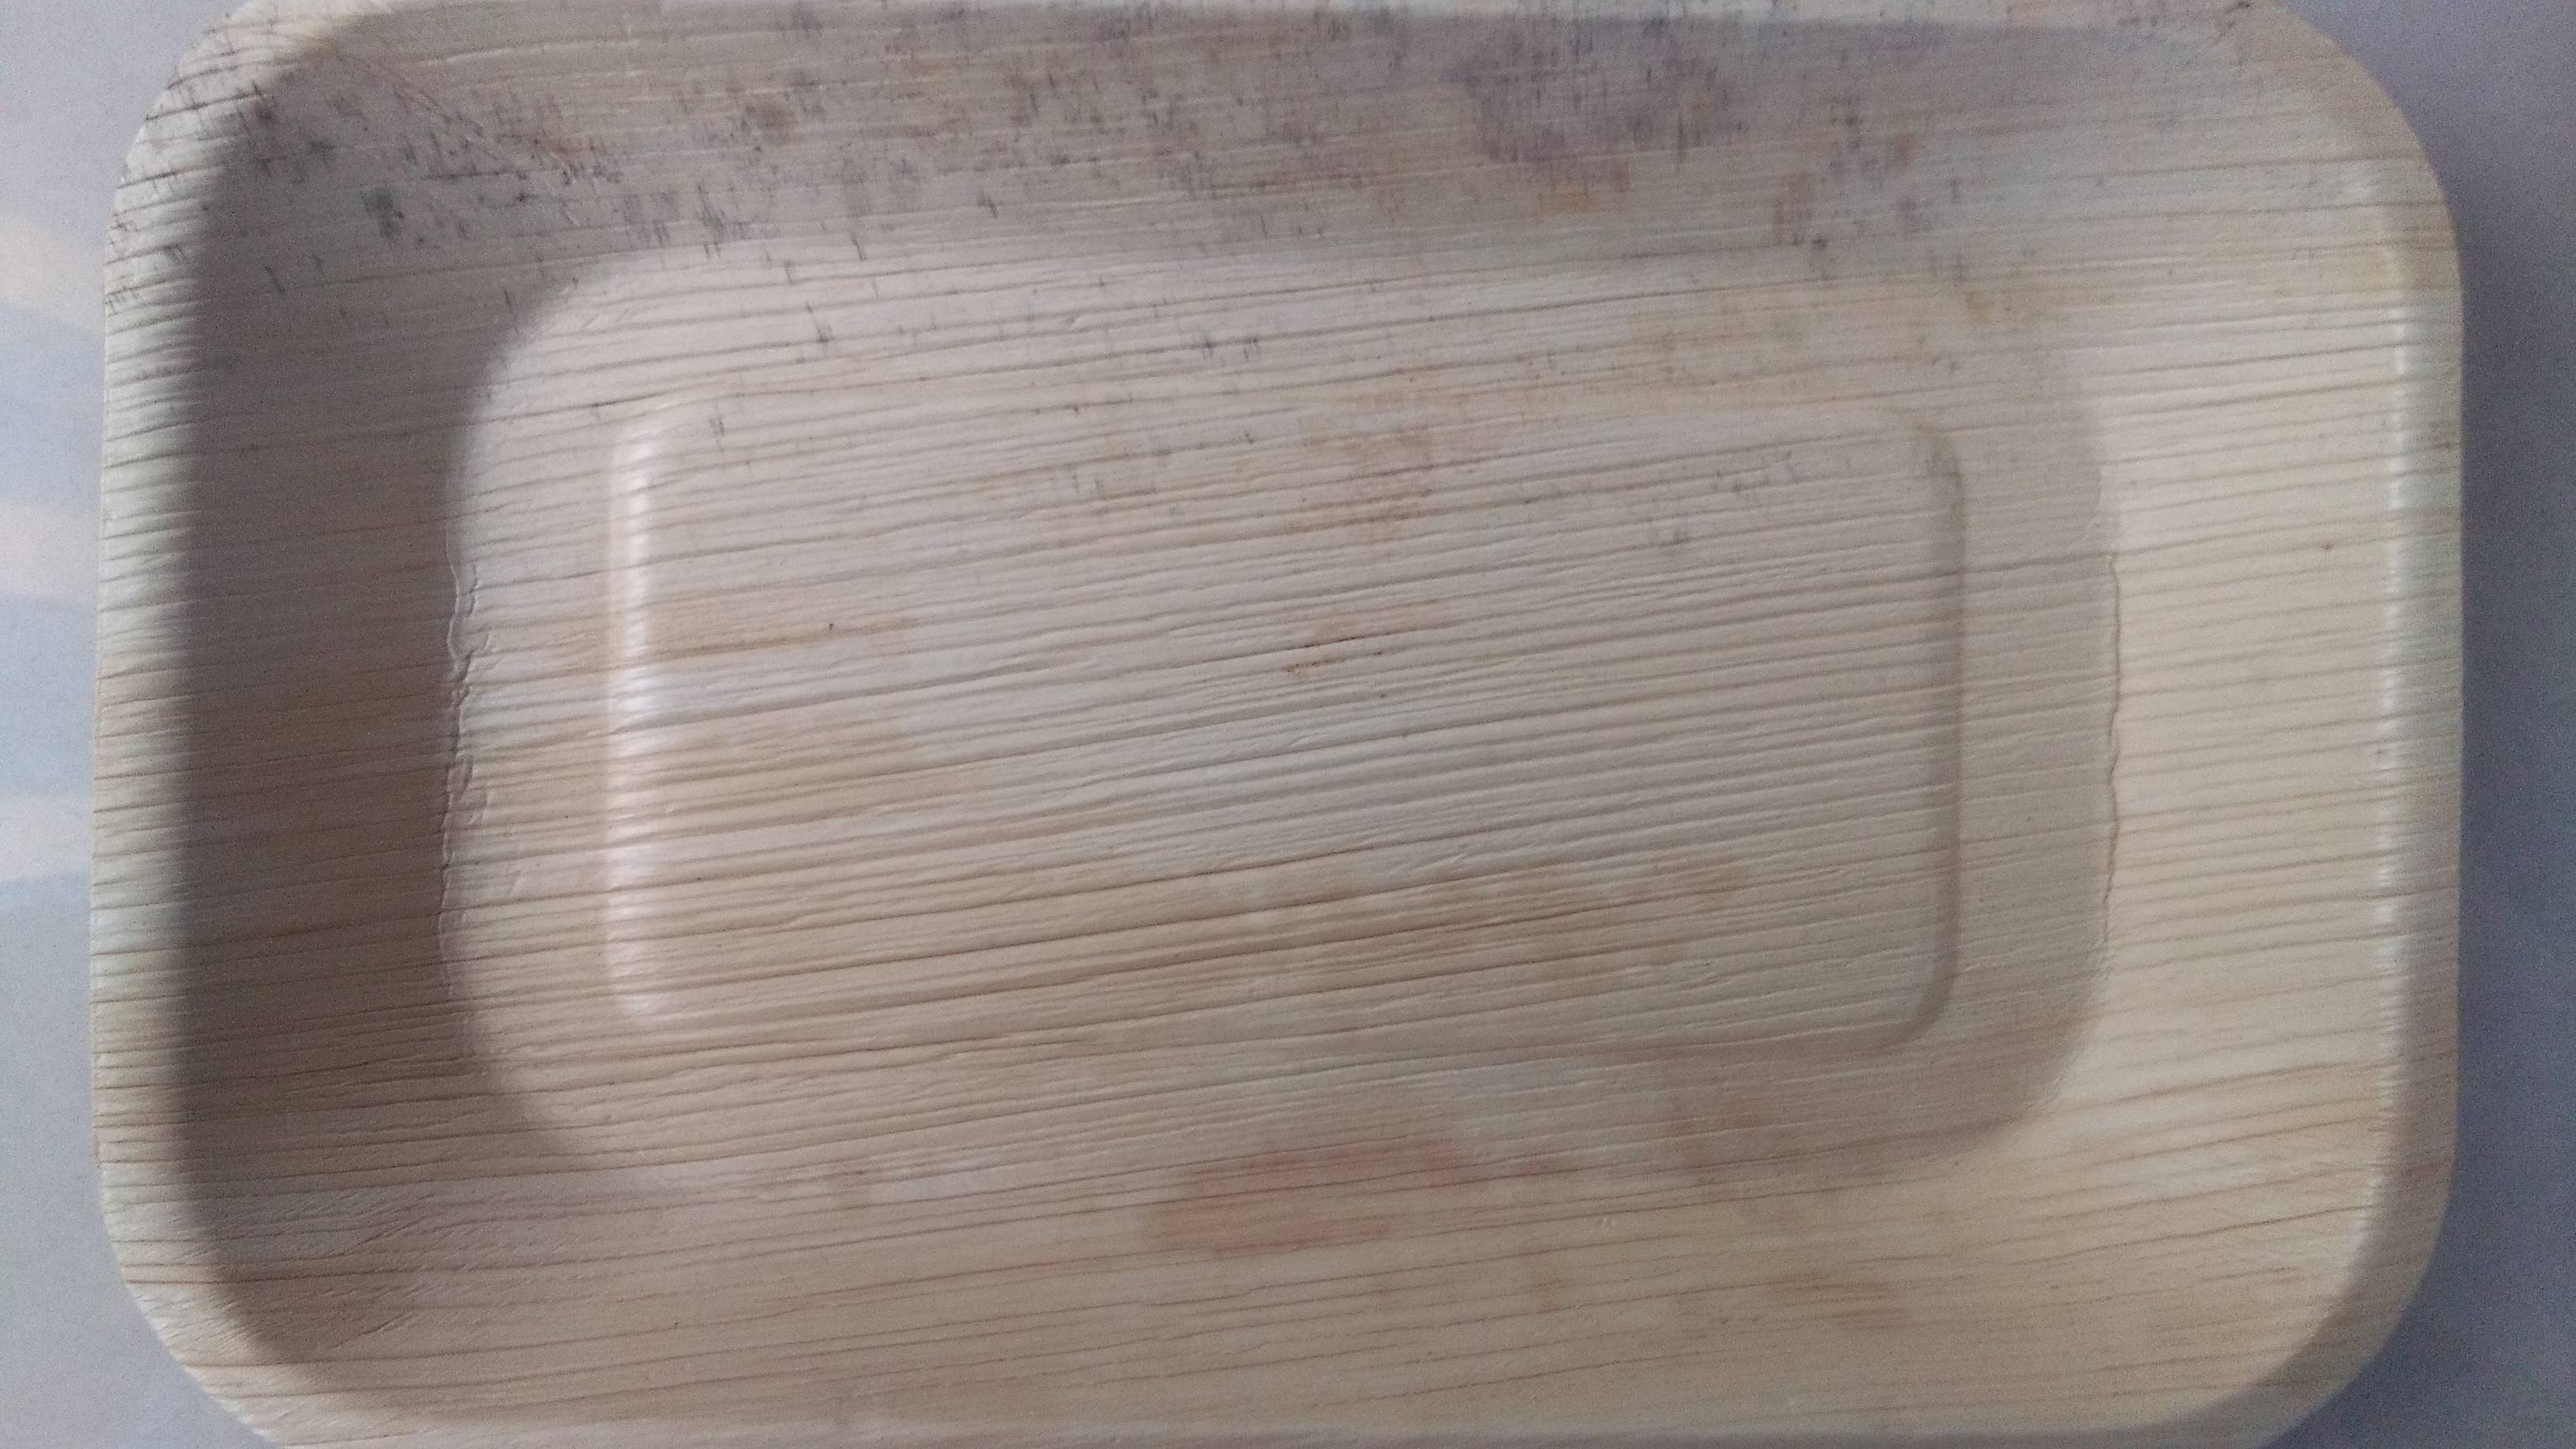areca plate: (124, 16, 2438, 1430)
